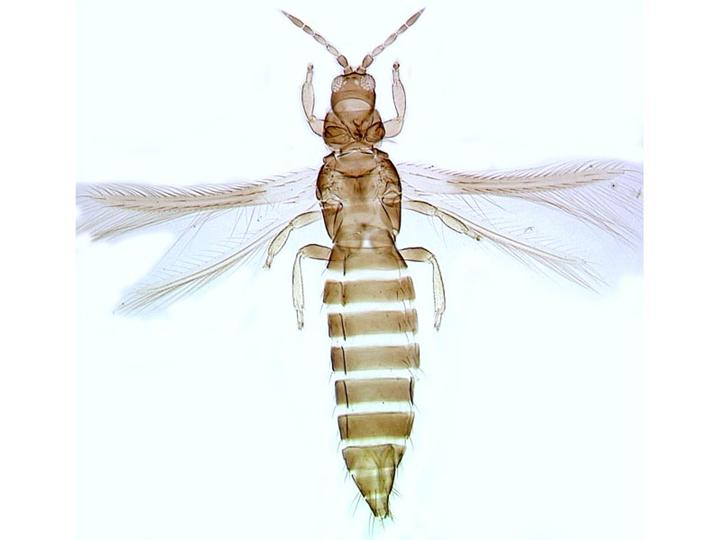Thrips: (97, 2, 647, 538)
